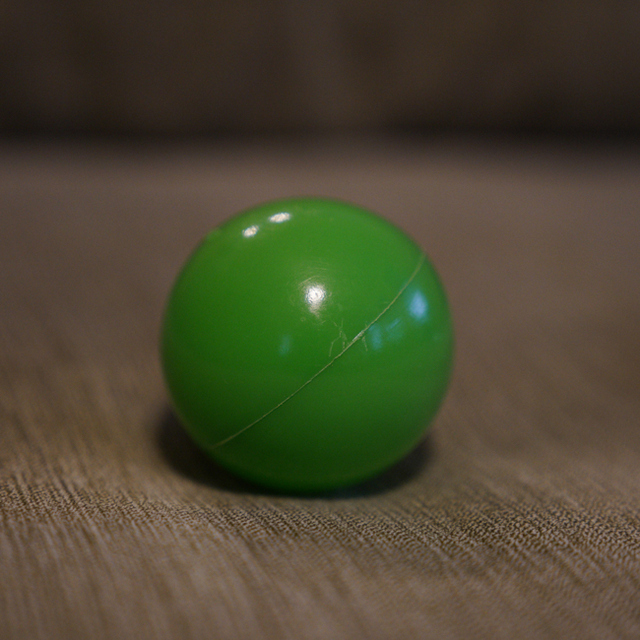Ball: (159, 197, 451, 491)
